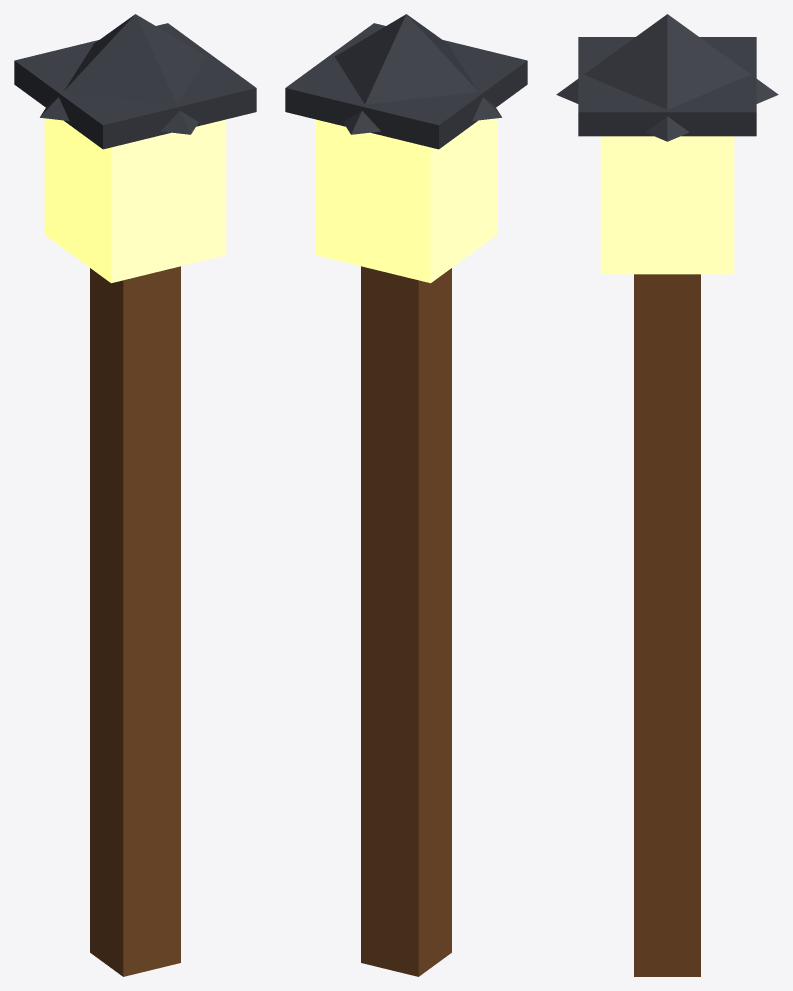
Rendered from dock_post_lantern.glb.
The picture shows the model from 3 angles, left to right: view 1: azimuth 30°, elevation 25°; view 2: azimuth 150°, elevation 25°; view 3: azimuth 270°, elevation 25°; orthographic projection.
Visible parts, largest first — view 1: dock_post_lantern; view 2: dock_post_lantern; view 3: dock_post_lantern.
Boxes of the visible parts, left/top/right/bottom form: dock_post_lantern: left=14, top=14, right=256, bottom=976; dock_post_lantern: left=285, top=14, right=527, bottom=976; dock_post_lantern: left=556, top=14, right=778, bottom=976.
Size of the model in its own units: 0.5 by 2.35 by 0.5.
